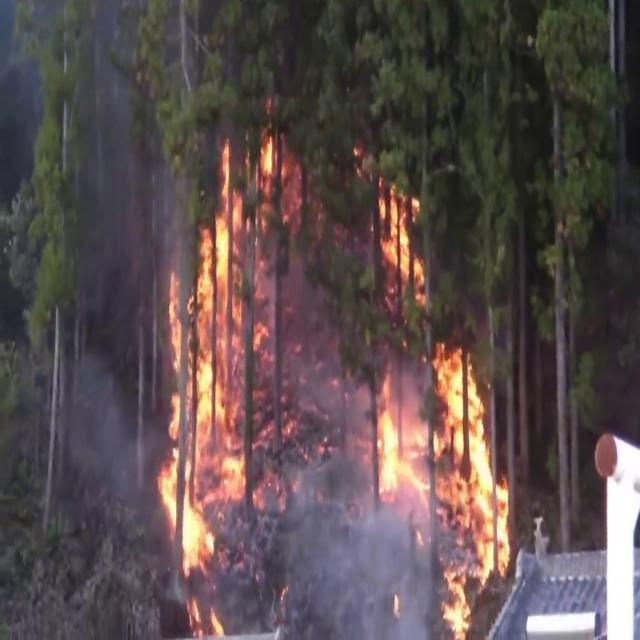Fire: (334, 180, 516, 630), (152, 135, 292, 625)
Smoke: (51, 39, 157, 528), (280, 362, 426, 624)
